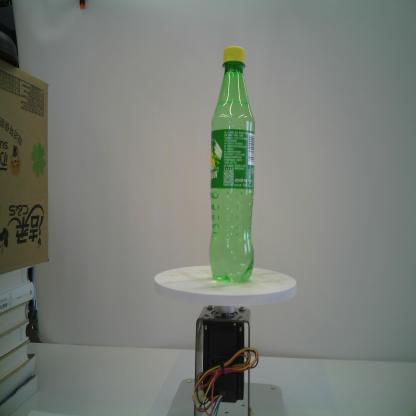Drink: (207, 43, 256, 284)
